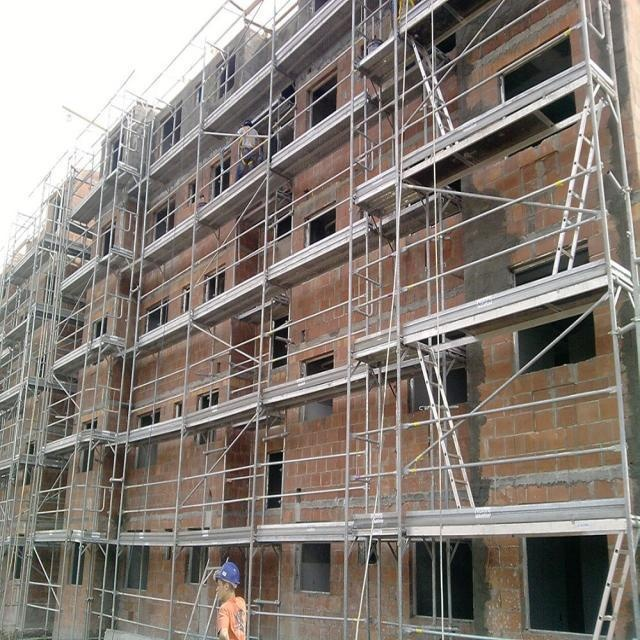Arnes_seguridad: (235, 126, 260, 166)
